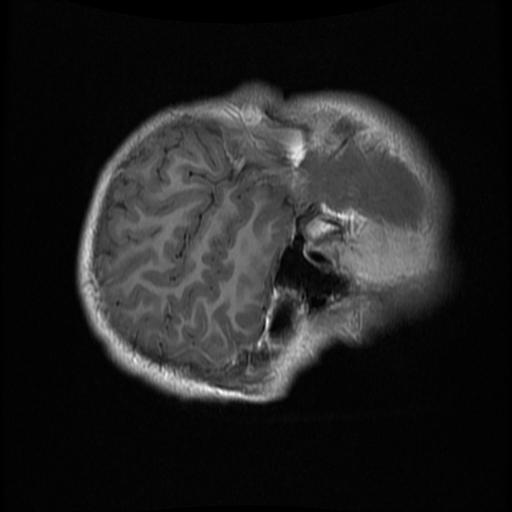glioma: (270, 299, 296, 338)
